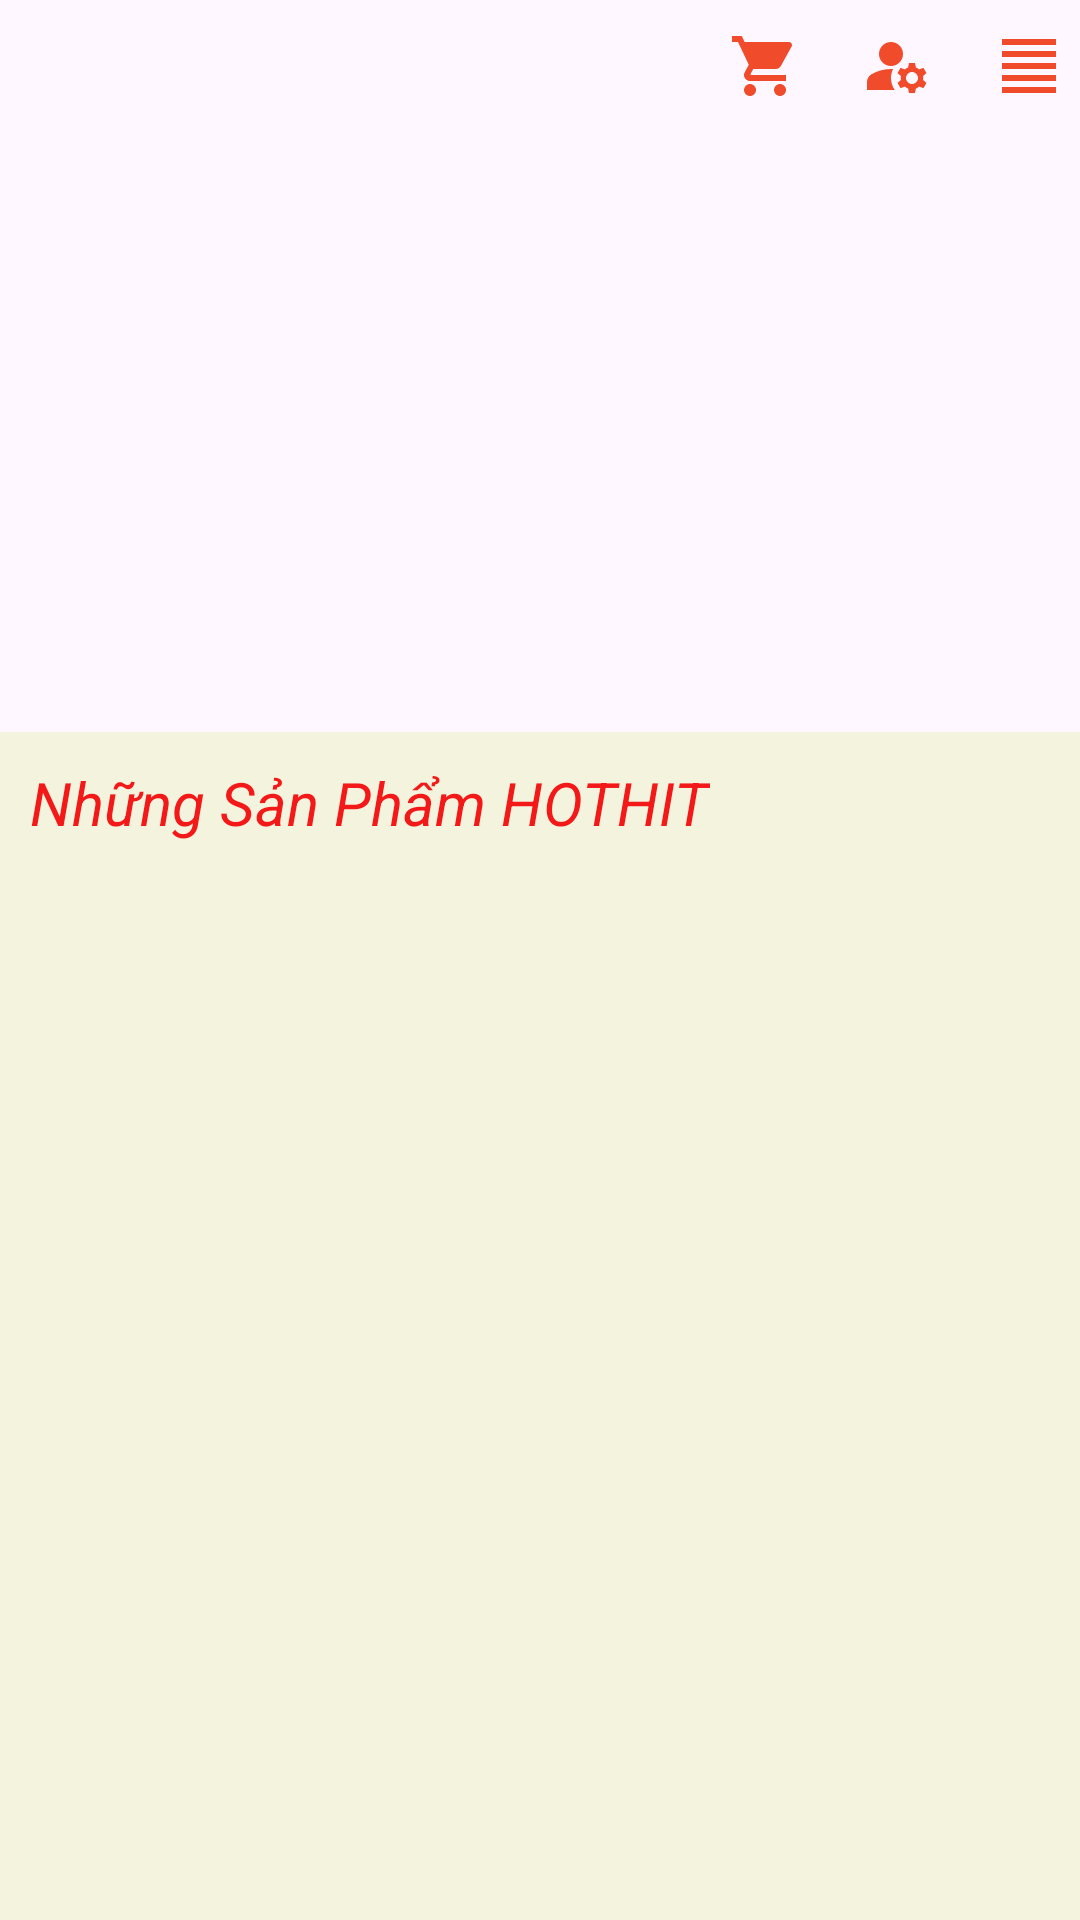

Screen size 1080w x 1920h. Icon name, then its center in pixels as point (x, y):
cart: point (762, 66)
list: point (1029, 66)
manager: point (897, 67)
